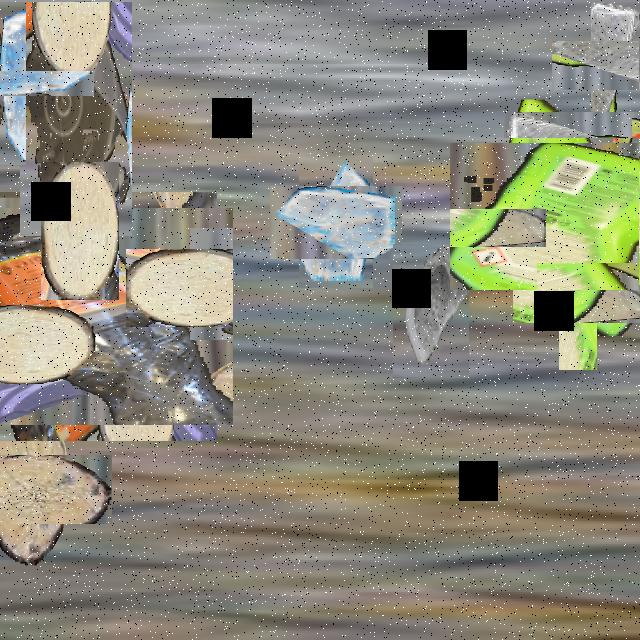glass: (284, 171, 388, 273), (393, 244, 469, 378), (0, 178, 89, 287), (571, 21, 640, 110), (0, 36, 60, 130)
plastic: (0, 200, 225, 433), (471, 121, 640, 312), (20, 2, 132, 236), (558, 56, 640, 192)
wood: (41, 162, 119, 300), (0, 433, 91, 544), (536, 262, 620, 346)
